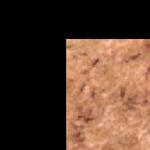alive: (68, 39, 147, 148)
